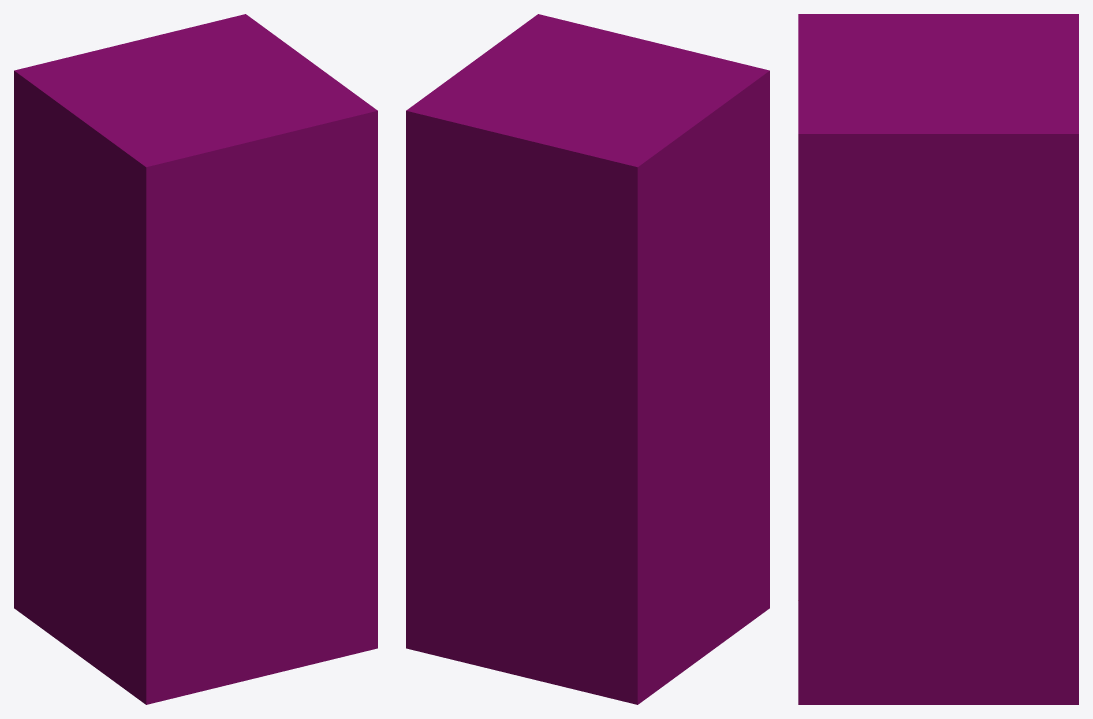
The model's file is lavafall.DAE.
3 views of the same model, side by side, from view 1: azimuth 30°, elevation 25°; view 2: azimuth 150°, elevation 25°; view 3: azimuth 270°, elevation 25° (orthographic). The views are drawn at different scales.
Visible parts, largest first — view 1: bounds; view 2: bounds; view 3: bounds.
Boxes of the visible parts, bbox=[...] form: bounds: bbox=[14, 14, 377, 704]; bounds: bbox=[406, 14, 769, 704]; bounds: bbox=[798, 14, 1078, 704].
Bounding box in the file's own units: 7.48 × 7.39 × 16.59.
